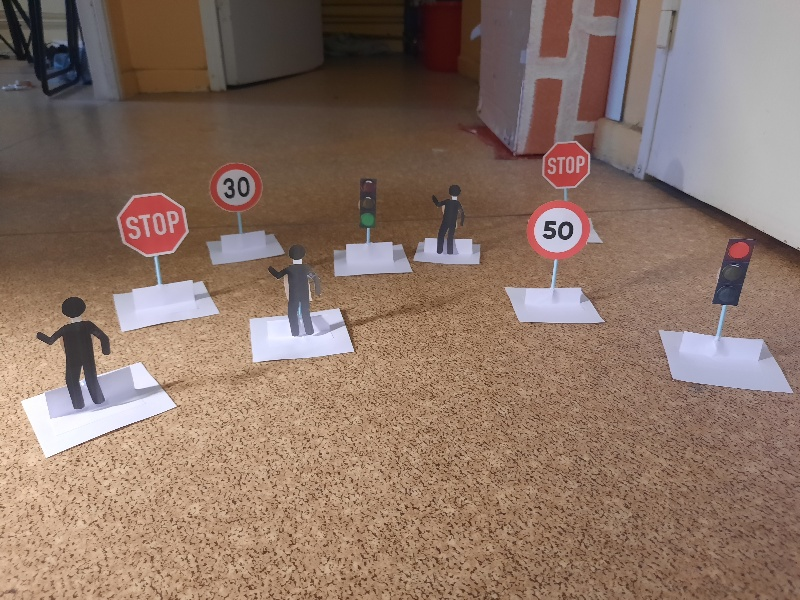Green: (359, 180, 377, 229)
Limit 30: (209, 161, 265, 207)
Limit 50: (529, 201, 589, 257)
Person: (37, 295, 113, 409), (268, 247, 318, 338), (432, 184, 461, 254)
Red: (714, 236, 748, 304)
Stop: (112, 193, 188, 257), (543, 144, 588, 186)
